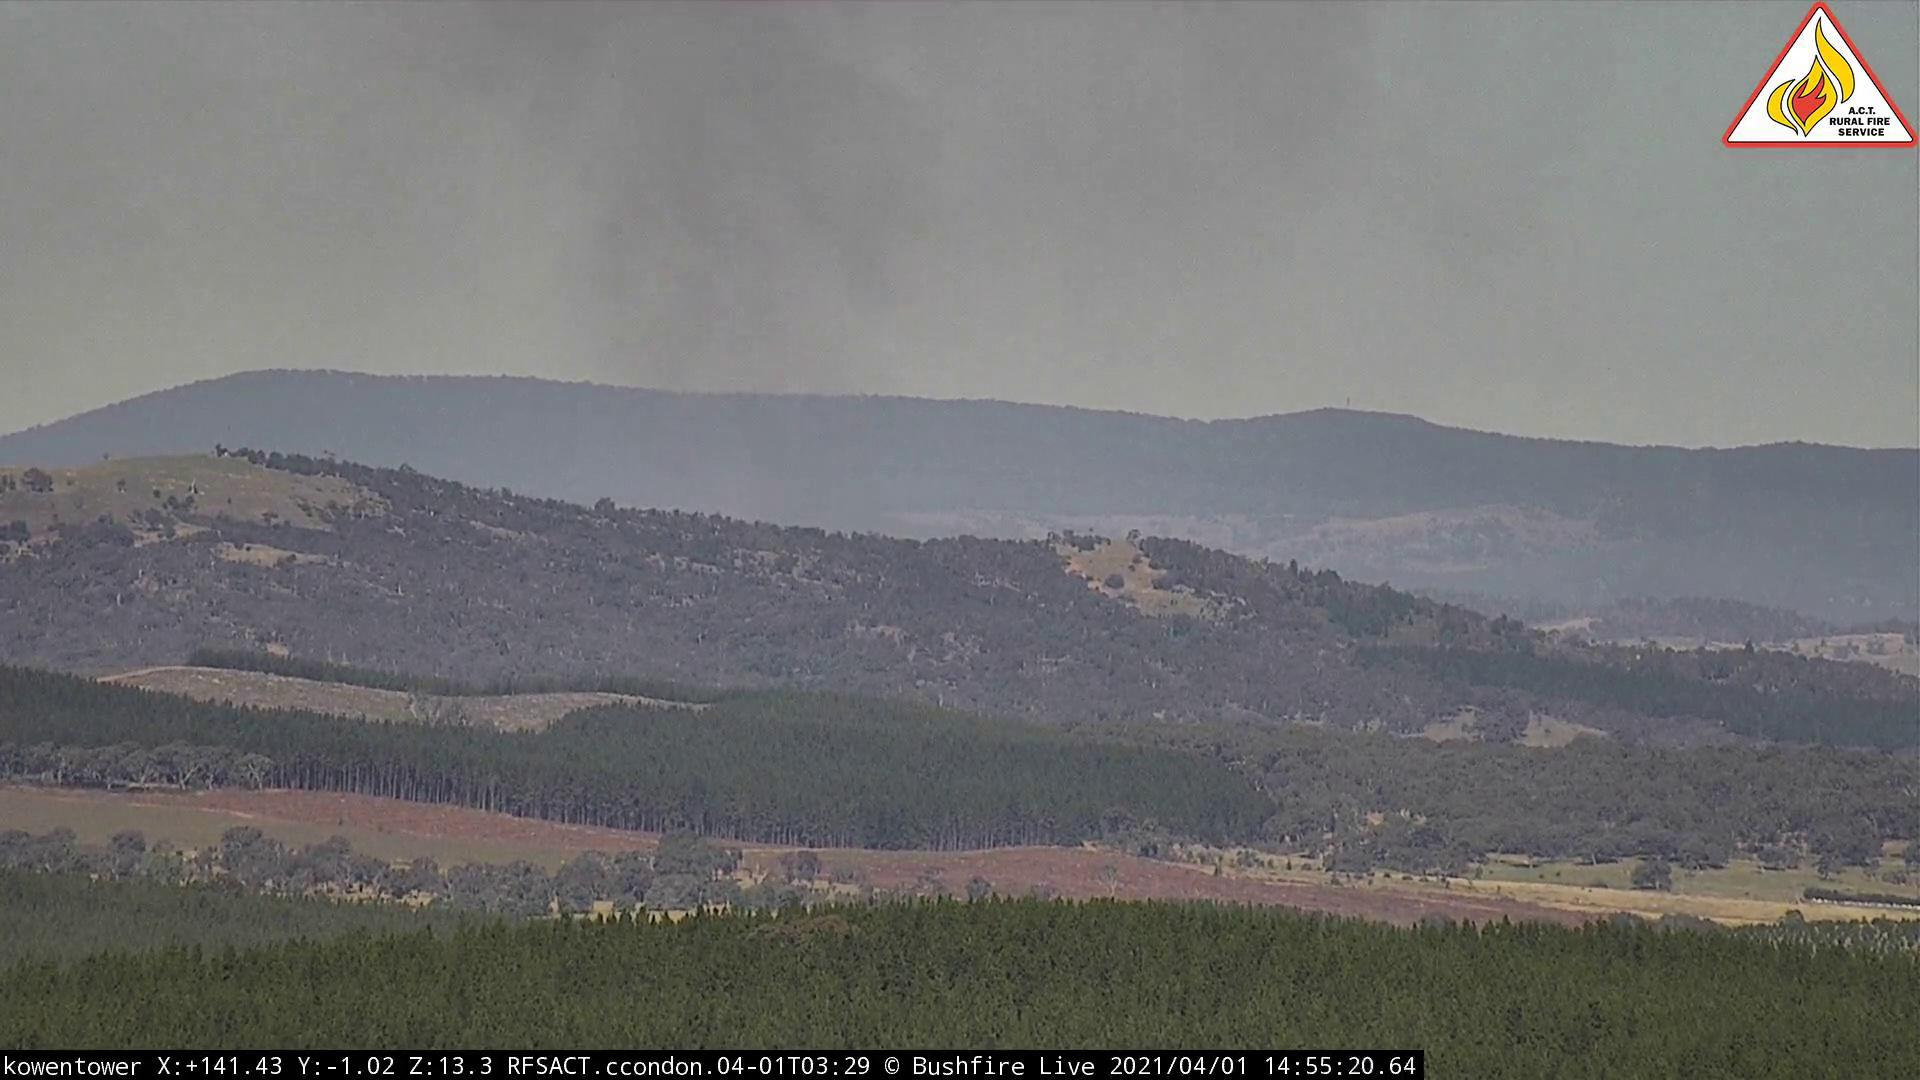Smoke: (384, 3, 1407, 546)
